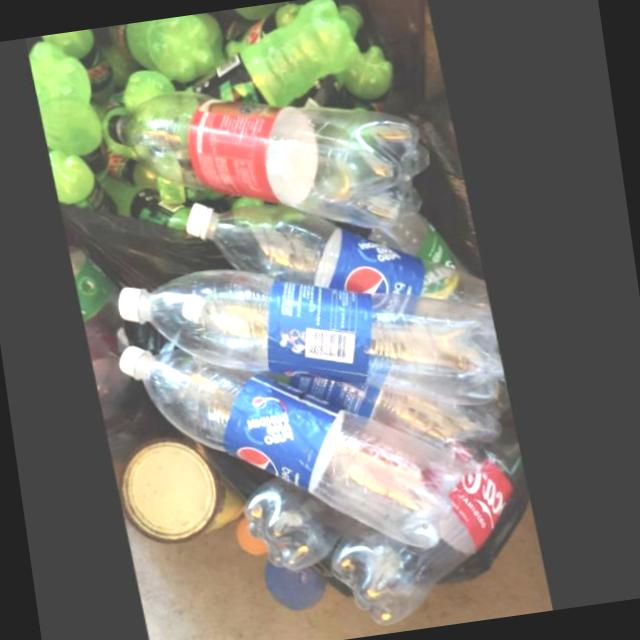chai_nhua: (194, 0, 374, 106), (40, 41, 119, 178), (120, 13, 225, 83), (52, 28, 125, 104), (58, 150, 126, 216), (354, 45, 403, 112)
chai_nhua_pet: (125, 347, 468, 550), (124, 270, 510, 407), (116, 92, 439, 229), (332, 414, 526, 627), (194, 203, 497, 307), (247, 479, 360, 571)
nhom: (123, 443, 248, 545)
